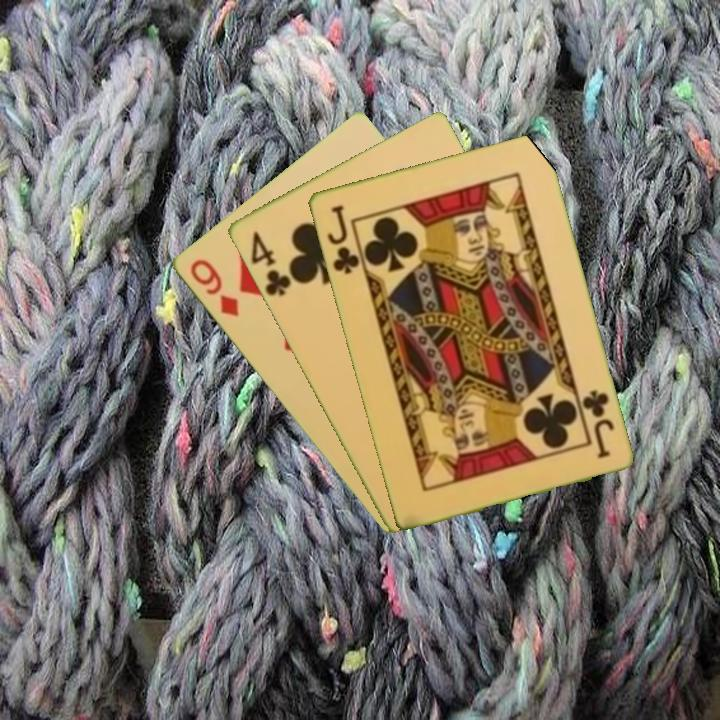4c: (246, 227, 294, 299)
9d: (186, 255, 242, 320)
Jc: (323, 201, 362, 277), (578, 386, 617, 461)
